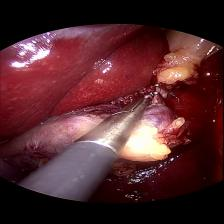Grasper: (110, 96, 154, 114)
